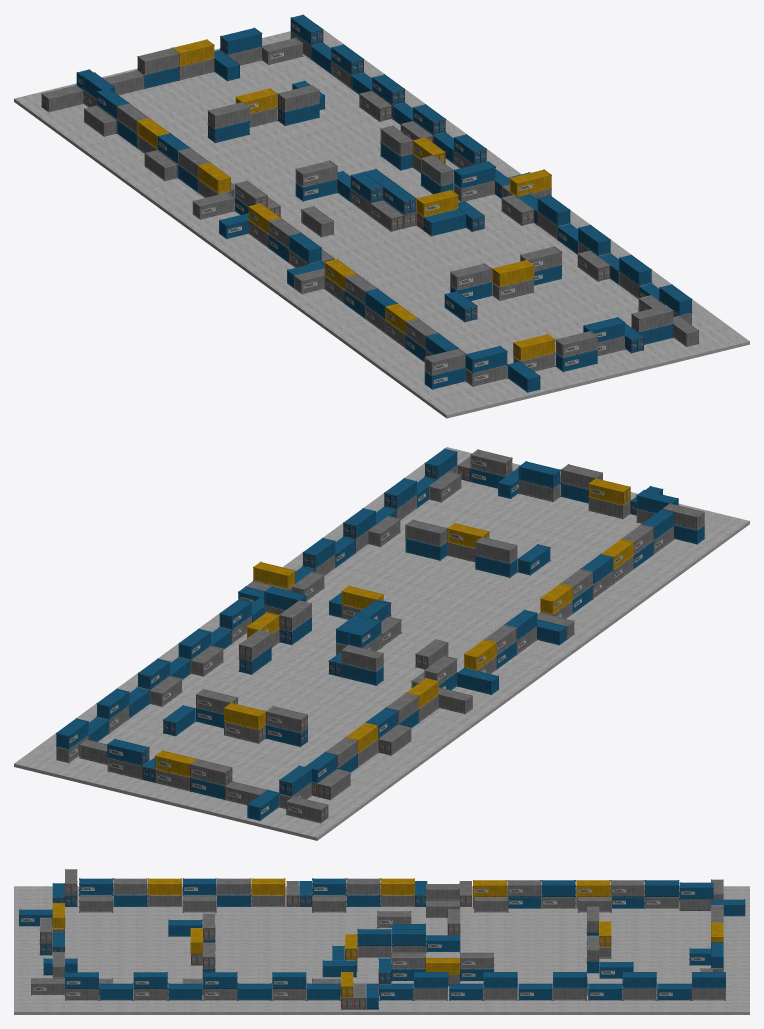
The model's file is map-giga.glb.
The picture shows the model from 3 angles, top to bottom: view 1: azimuth 30°, elevation 25°; view 2: azimuth 150°, elevation 25°; view 3: azimuth 270°, elevation 25°; orthographic projection. The views are drawn at different scales.
Visible parts, largest first — view 1: Cube, Blue_Container.026, Gray_Container.018, Gray_Container.020, Gray_Container.028, Gray_Container.032, Gray_Container.001, Gray_Container.008, Gray_Container.072, Gray_Container.005, Gray_Container.051, Gray_Container.078 (+37 smaller); view 2: Cube, Gray_Container.020, Gray_Container.074, Gray_Container.001, Gray_Container.028, Gray_Container.010, Gray_Container.008, Gray_Container.032, Blue_Container.008, Blue_Container.022, Gray_Container.051, Gray_Container.075 (+37 smaller); view 3: Cube, Blue_Container.005, Gray_Container.016, Gray_Container.036, Gray_Container.040, Blue_Container.032, Blue_Container.042, Blue_Container.045, Gray_Container.052, Gray_Container.053, Gray_Container.058, Gray_Container.061 (+90 smaller).
Boxes of the visible parts, left/top/right/bottom form: Cube: left=14, top=25, right=749, bottom=418; Blue_Container.026: left=465, top=345, right=507, bottom=372; Gray_Container.018: left=416, top=189, right=458, bottom=217; Gray_Container.020: left=509, top=169, right=551, bottom=196; Gray_Container.028: left=631, top=305, right=673, bottom=332; Gray_Container.032: left=513, top=333, right=555, bottom=361; Gray_Container.001: left=295, top=160, right=337, bottom=187; Gray_Container.008: left=137, top=47, right=179, bottom=75; Gray_Container.072: left=492, top=259, right=534, bottom=287; Gray_Container.005: left=192, top=192, right=234, bottom=219; Gray_Container.051: left=41, top=85, right=83, bottom=112; Gray_Container.078: left=277, top=84, right=319, bottom=112; Cube: left=14, top=447, right=749, bottom=840; Gray_Container.020: left=253, top=561, right=295, bottom=589; Gray_Container.074: left=405, top=519, right=447, bottom=546; Gray_Container.001: left=341, top=644, right=383, bottom=671; Gray_Container.028: left=470, top=449, right=512, bottom=476; Gray_Container.010: left=475, top=536, right=517, bottom=563; Gray_Container.008: left=190, top=758, right=232, bottom=786; Gray_Container.032: left=588, top=478, right=630, bottom=505; Blue_Container.008: left=107, top=738, right=149, bottom=765; Blue_Container.022: left=518, top=461, right=560, bottom=488; Gray_Container.051: left=286, top=796, right=328, bottom=823; Gray_Container.075: left=265, top=706, right=307, bottom=733; Cube: left=14, top=886, right=749, bottom=1014; Blue_Container.005: left=679, top=882, right=713, bottom=899; Gray_Container.016: left=391, top=952, right=425, bottom=969; Gray_Container.036: left=346, top=878, right=380, bottom=895; Gray_Container.040: left=312, top=895, right=346, bottom=912; Blue_Container.032: left=237, top=983, right=271, bottom=1000; Blue_Container.042: left=588, top=983, right=622, bottom=1000; Blue_Container.045: left=657, top=983, right=691, bottom=1000; Gray_Container.052: left=182, top=895, right=216, bottom=912; Gray_Container.053: left=251, top=878, right=285, bottom=895; Gray_Container.058: left=113, top=878, right=147, bottom=895; Gray_Container.061: left=79, top=895, right=113, bottom=912.
Size of the model in its own units: 59.78 by 5.81 by 148.
48 materials, 48 textured.
